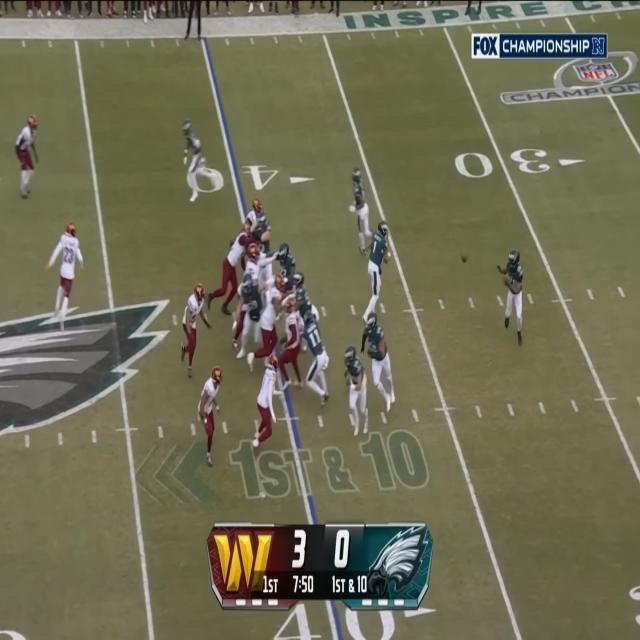Ball: (461, 255, 468, 263)
